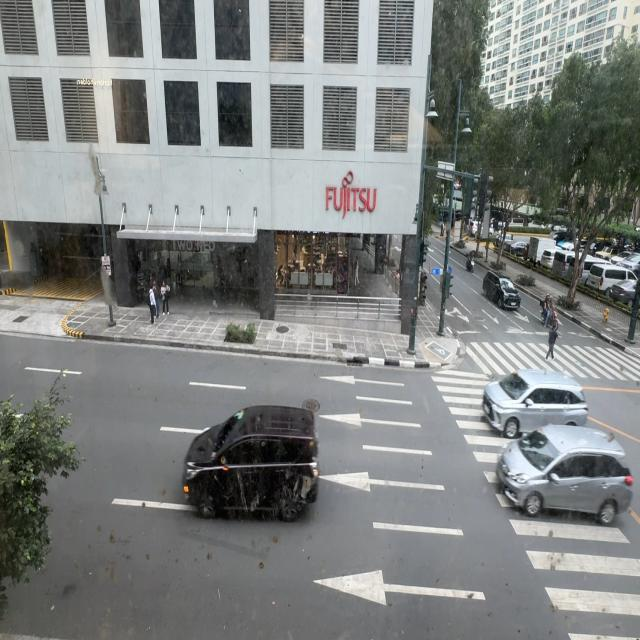crossing: (547, 324, 559, 358)
